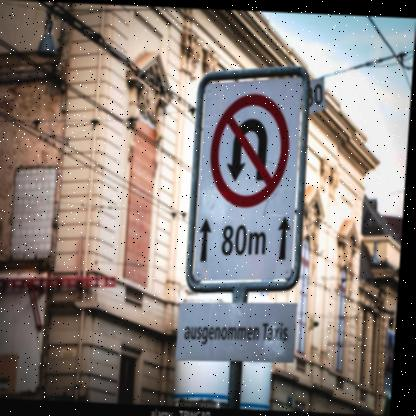No U-turn: (206, 87, 296, 209)
